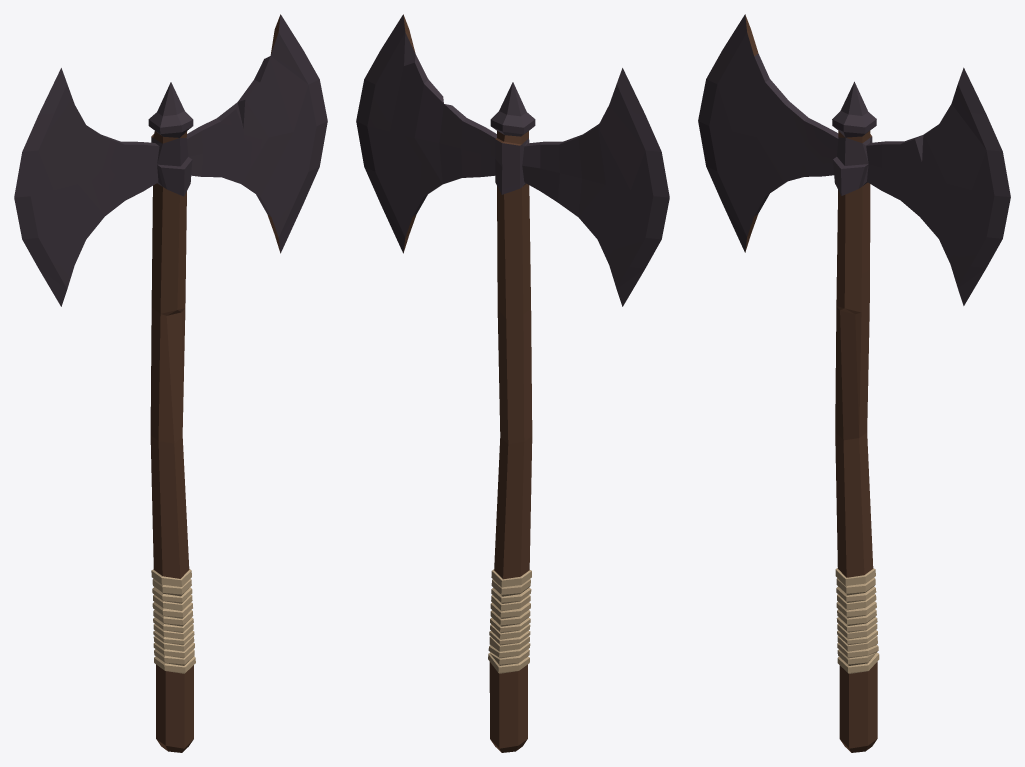
The model's file is Double_Axe Village.fbx.
3 views of the same model, side by side, from view 1: azimuth 30°, elevation 25°; view 2: azimuth 150°, elevation 25°; view 3: azimuth 330°, elevation 25° (orthographic).
Visible parts, largest first — view 1: Double_Axe; view 2: Double_Axe; view 3: Double_Axe.
Part boxes in pixels (<box>): Double_Axe: <box>14,14,327,752</box>; Double_Axe: <box>356,14,669,752</box>; Double_Axe: <box>698,14,1010,752</box>.
Bounding box in the file's own units: 0.5776 × 1.25 × 0.0779.
